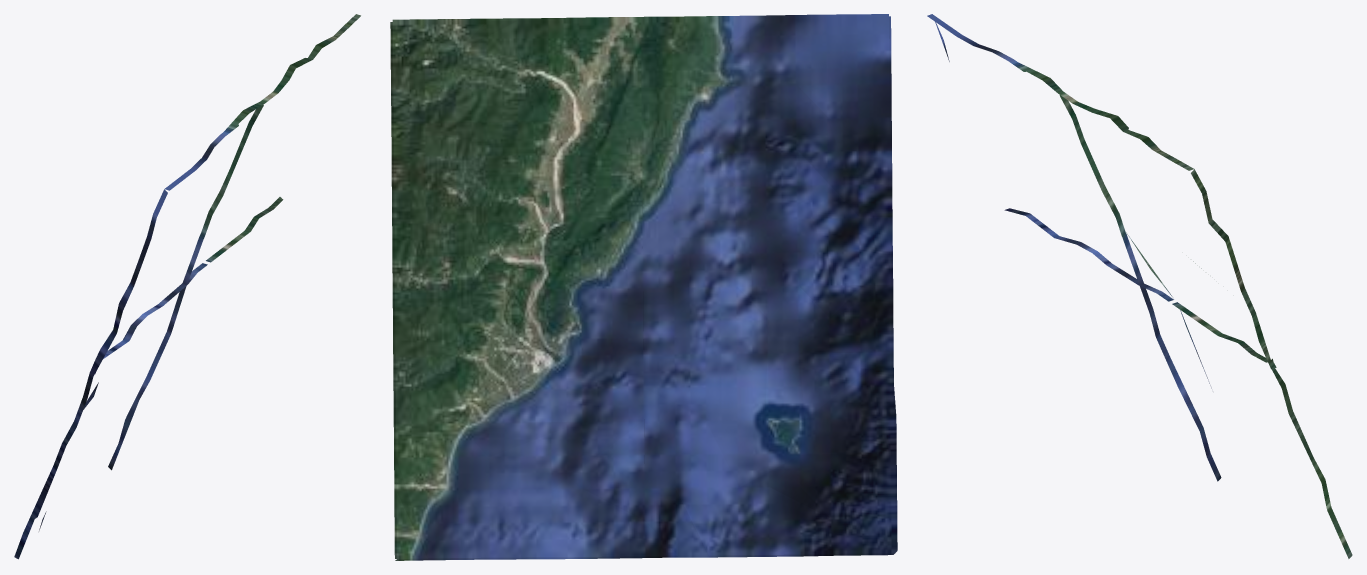
The picture shows the model from 3 angles, left to right: view 1: azimuth 30°, elevation 25°; view 2: azimuth 150°, elevation 25°; view 3: azimuth 270°, elevation 25°; orthographic projection. The views are drawn at different scales.
Bounding box in the file's own units: 75462 × 75205 × 65904.
Materials: 1 (1 with a texture image).
